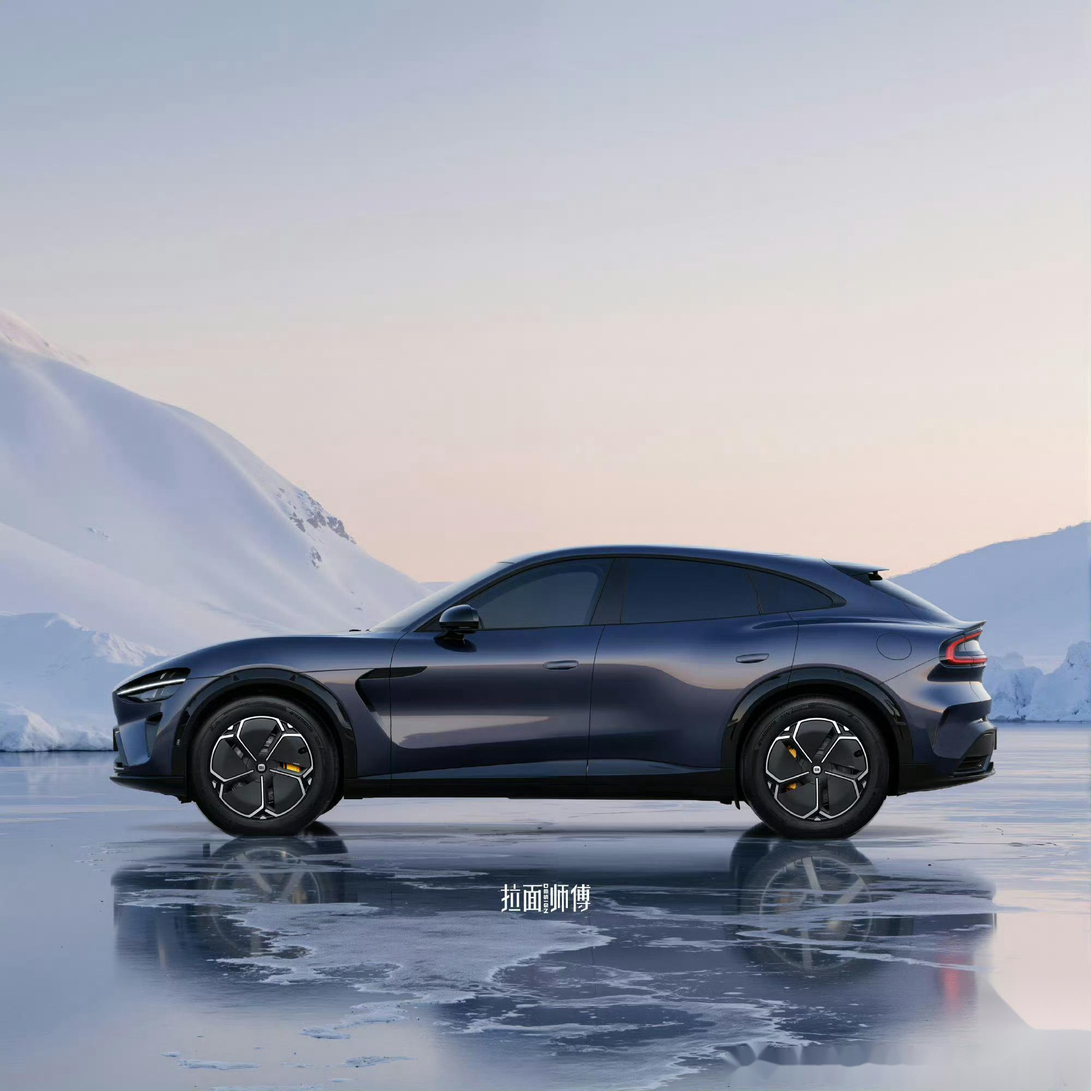other: (100, 546, 1021, 850)
